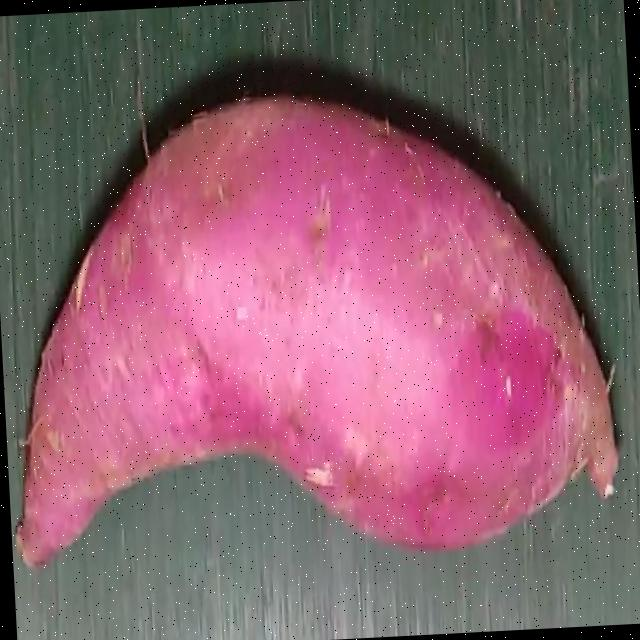Sweet Potato: (14, 95, 618, 571)
